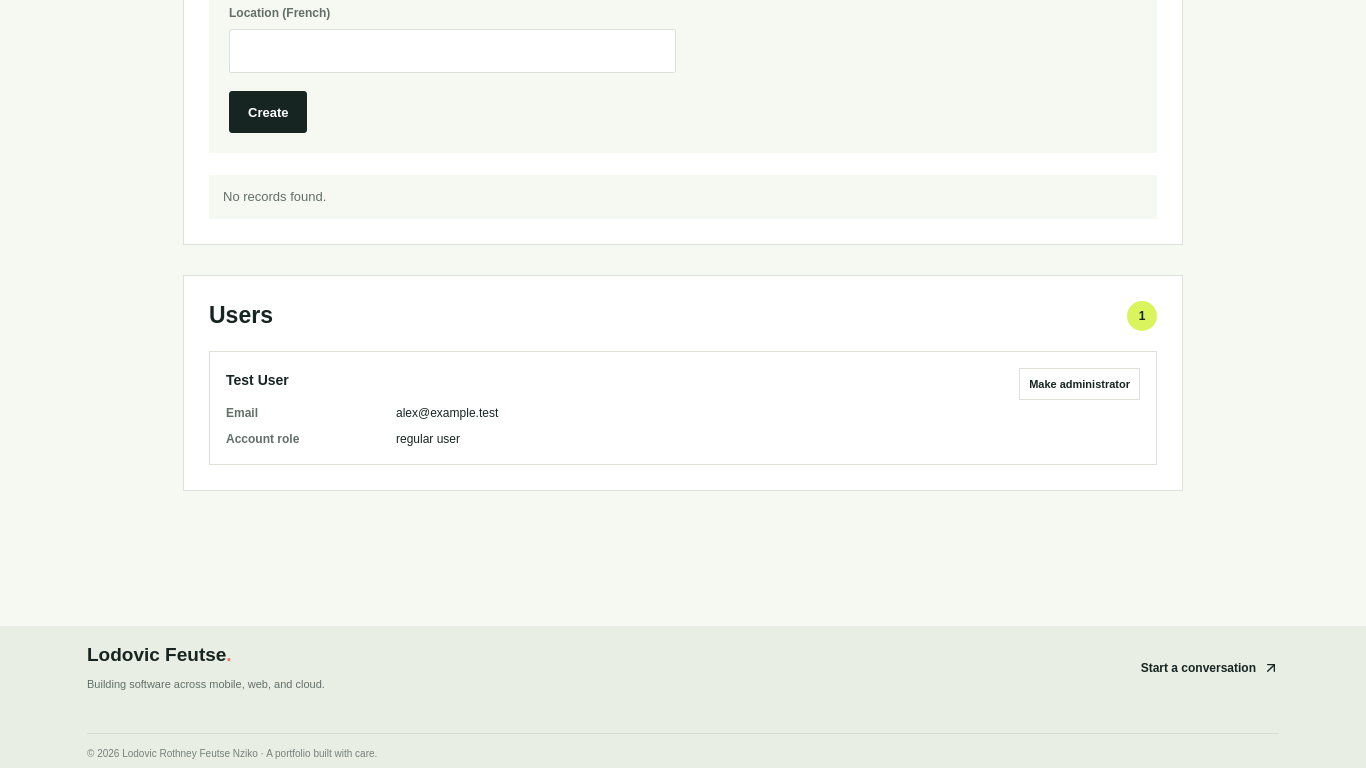
Test: authentication and dashboard › lets an administrator promote another user after confirmation
(page scrolled)
Click the button "Make administrator".
click(1080, 384)  # box [1019,368,1140,400]
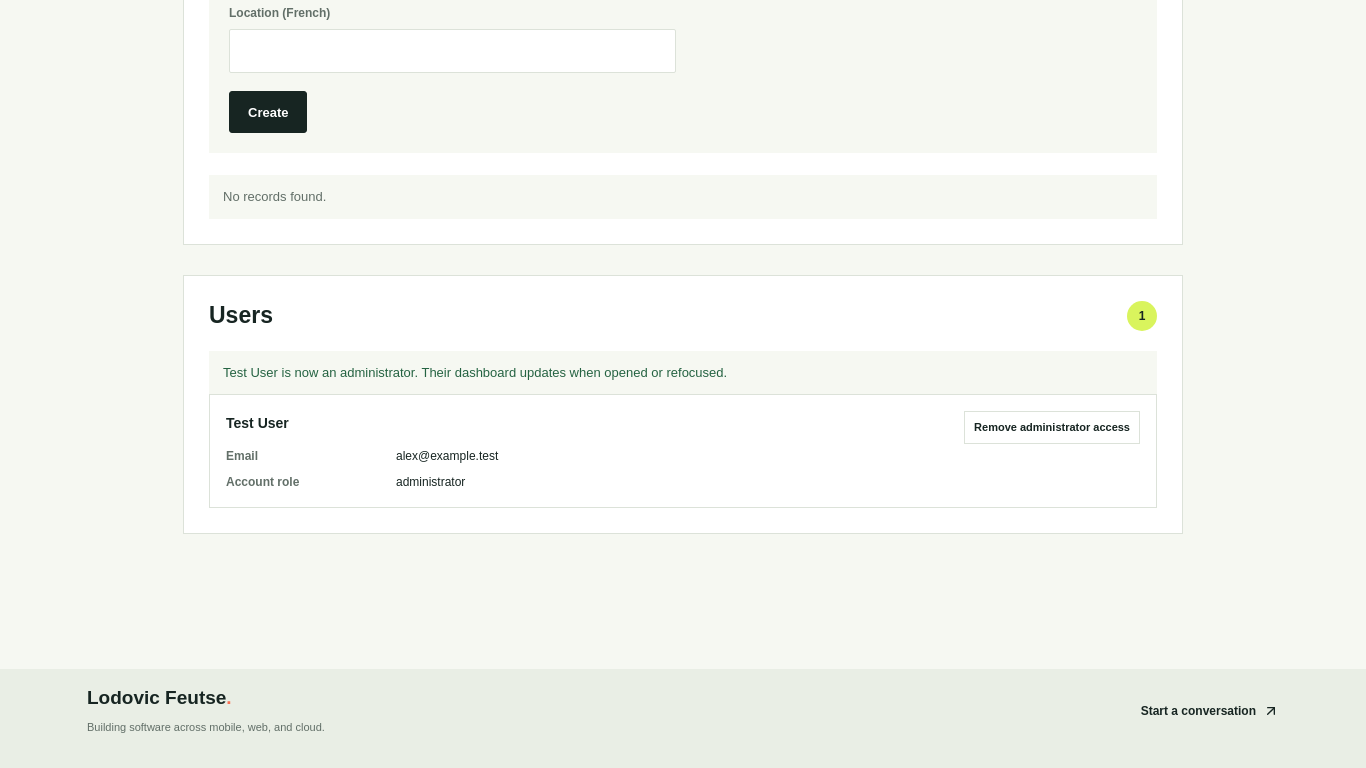
expect the text "alex@example.test" is shown: met, box [396,450,498,464]
expect the text "Test User is now an administrator" is shown: met, box [223,365,727,380]
expect the button "Remove administrator access" is shown: met, box [964,412,1140,444]
